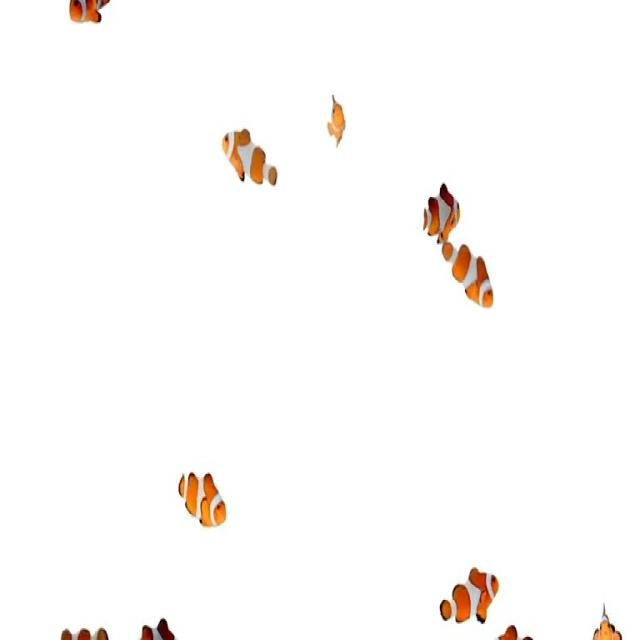fish: (218, 123, 279, 191), (439, 564, 500, 630), (442, 234, 496, 308), (175, 463, 231, 530), (417, 181, 466, 245), (326, 96, 348, 152), (68, 0, 109, 25)
